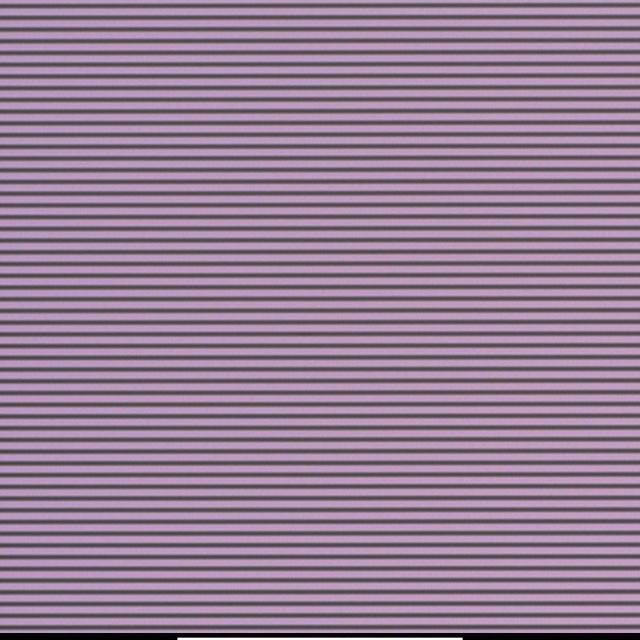03_intrusion: (322, 472, 329, 478)
